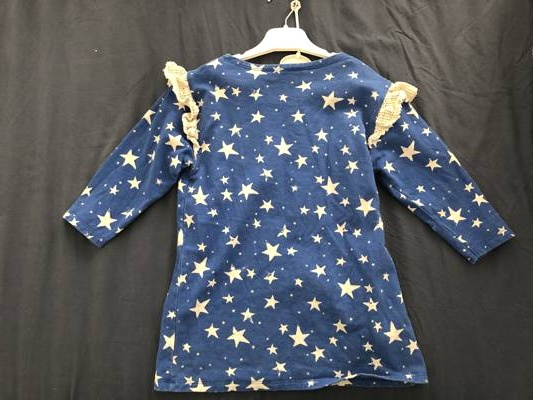Dress: (58, 23, 504, 396)
